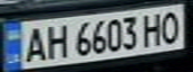0: (106, 16, 127, 52)
3: (121, 13, 142, 51)
6: (72, 19, 93, 57), (90, 17, 109, 55)
A: (18, 24, 48, 63)
H: (39, 21, 69, 60), (139, 10, 166, 47)
O: (157, 8, 187, 44)
